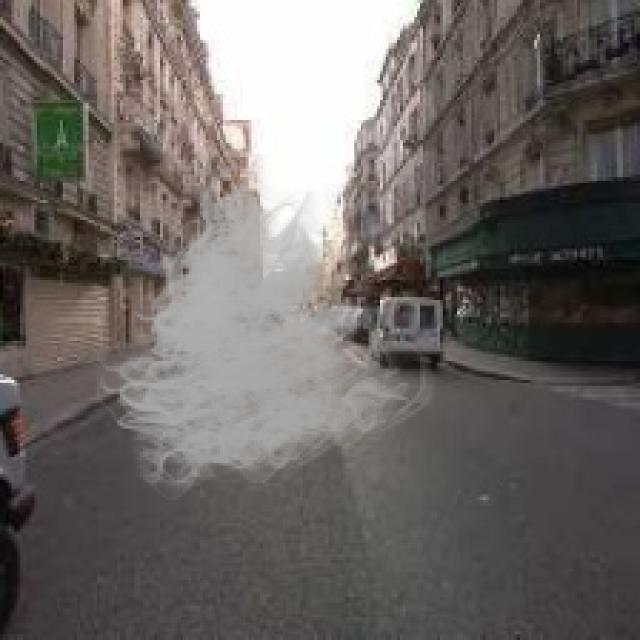Smoke: (86, 154, 440, 509)
